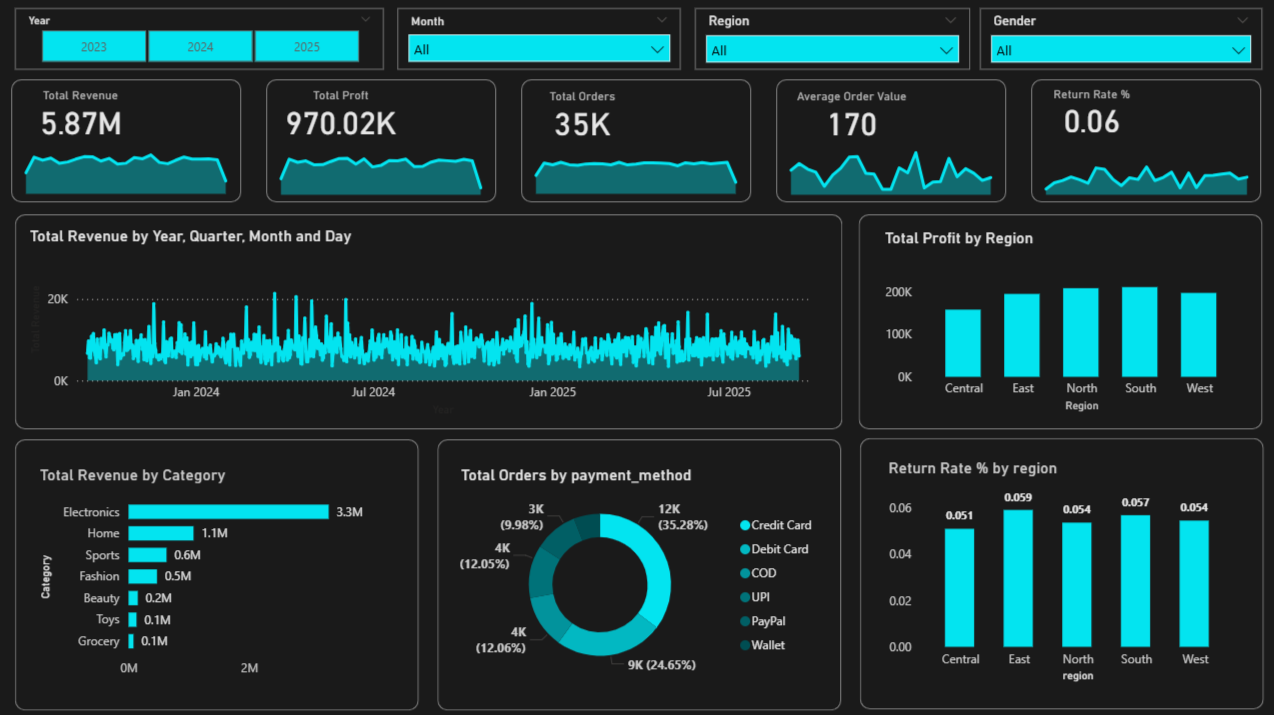

What the dashboard file says about the page in this screenshot:
{"tool":"powerbi","page":{"name":"Page 1","canvas":[1280,720],"ordinal":0},"visuals":[{"type":"slicer","fields":{"Values":["orders.Year"]},"box":[19,8.3,369,61.9],"z":0},{"type":"shape","box":[15.5,80,230,123],"z":0,"group":"g6"},{"type":"slicer","fields":{"Values":["orders.region"]},"box":[698.8,8.3,275,61.9],"z":1000},{"type":"shape","box":[270.4,80,230,123],"z":1000,"group":"g8"},{"type":"slicer","fields":{"Values":["orders.Month"]},"box":[401.2,8.3,283.3,61.9],"z":2000},{"type":"shape","box":[525.1,79.8,230,123],"z":2000,"group":"g9"},{"type":"shape","box":[779.9,80,230,123],"z":3000,"group":"g12"},{"type":"group","id":"g1","title":"Group 1","box":[19.3,439.5,403.8,271.2],"z":3000},{"type":"shape","box":[1034.6,80,230,123],"z":4000,"group":"g14"},{"type":"group","id":"g2","title":"Group 2","box":[441.8,439.5,403.8,271.2],"z":4000},{"type":"group","id":"g3","title":"Group 3","box":[864.3,438.3,403.8,271.2],"z":5000},{"type":"shape","box":[19.3,439.5,403.8,271.2],"z":5000,"group":"g1"},{"type":"group","id":"g4","title":"Group 4","box":[861.9,214.5,403.8,215],"z":6000},{"type":"shape","box":[441.8,439.5,403.8,271.2],"z":6000,"group":"g2"},{"type":"group","id":"g5","title":"Group 5","box":[18.2,214.5,827.5,215],"z":7000},{"type":"shape","box":[864.3,438.3,403.8,271.2],"z":7000,"group":"g3"},{"type":"slicer","fields":{"Values":["orders.customer_gender"]},"box":[983.3,8.3,282.1,61.9],"z":8000},{"type":"group","id":"g6","title":"Group 6","box":[15.5,80,230,123],"z":8000,"group":"g7"},{"type":"shape","box":[861.9,214.5,403.8,215],"z":8000,"group":"g4"},{"type":"group","id":"g7","title":"Group 11","box":[15.5,80,230,123],"z":9000},{"type":"group","id":"g8","title":"Group 7","box":[270.4,80,229.8,123],"z":9000,"group":"g10"},{"type":"shape","box":[18.2,214.5,827.5,215],"z":9000,"group":"g5"},{"type":"group","id":"g9","title":"Group 8","box":[525.1,79.8,229.8,123],"z":10000,"group":"g11"},{"type":"group","id":"g10","title":"Group 12","box":[270.2,80,230,123],"z":10000},{"type":"card","title":"Total Proft","fields":{"Values":["orders.Total Profit"]},"box":[276.5,88.1,137,52.9],"z":10000,"group":"g8"},{"type":"group","id":"g11","title":"Group 13","box":[525,79.8,229.8,122.6],"z":11000},{"type":"group","id":"g12","title":"Group 9","box":[779.9,80,229.8,123],"z":11000,"group":"g13"},{"type":"card","title":"Total Revenue","fields":{"Values":["orders.Total Revenue"]},"box":[27.9,88.3,113.8,52.1],"z":11000,"group":"g6"},{"type":"group","id":"g13","title":"Group 14","box":[779.8,80,229.9,123],"z":12000},{"type":"group","id":"g14","title":"Group 10","box":[1034.6,80,231,123],"z":12000,"group":"g15"},{"type":"card","title":"Total Orders","fields":{"Values":["orders.Total Orders"]},"box":[530.3,89.4,112.6,51.7],"z":12000,"group":"g9"},{"type":"group","id":"g15","title":"Group 15","box":[1034.5,80,231,123],"z":13000},{"type":"card","title":"Return Rate %","fields":{"Values":["orders.Return Rate %"]},"box":[1040.3,88,108.9,50.3],"z":13000,"group":"g14"},{"type":"areaChart","fields":{"Category":["orders.order_date.Variation.Date Hierarchy.Year","orders.order_date.Variation.Date Hierarchy.Quarter","orders.order_date.Variation.Date Hierarchy.Month","orders.order_date.Variation.Date Hierarchy.Day"],"Y":["orders.Total Revenue"]},"box":[15.5,138.1,229.8,61.9],"z":13001,"group":"g7"},{"type":"areaChart","fields":{"Category":["orders.order_date.Variation.Date Hierarchy.Year","orders.order_date.Variation.Date Hierarchy.Quarter","orders.order_date.Variation.Date Hierarchy.Month","orders.order_date.Variation.Date Hierarchy.Day"],"Y":["orders.Return Rate %"]},"box":[1034.5,138.1,231,61.9],"z":13002,"group":"g15"},{"type":"areaChart","fields":{"Category":["orders.order_date.Variation.Date Hierarchy.Year","orders.order_date.Variation.Date Hierarchy.Quarter","orders.order_date.Variation.Date Hierarchy.Month","orders.order_date.Variation.Date Hierarchy.Day"],"Y":["orders.AOV"]},"box":[779.8,138.1,229.8,61.9],"z":13003,"group":"g13"},{"type":"areaChart","fields":{"Category":["orders.order_date.Variation.Date Hierarchy.Year","orders.order_date.Variation.Date Hierarchy.Quarter","orders.order_date.Variation.Date Hierarchy.Month","orders.order_date.Variation.Date Hierarchy.Day"],"Y":["orders.Total Orders"]},"box":[525,137.9,229.8,61.9],"z":13004,"group":"g11"},{"type":"areaChart","fields":{"Category":["orders.order_date.Variation.Date Hierarchy.Year","orders.order_date.Variation.Date Hierarchy.Quarter","orders.order_date.Variation.Date Hierarchy.Month","orders.order_date.Variation.Date Hierarchy.Day"],"Y":["orders.Total Profit"]},"box":[270.2,138.1,229.8,61.9],"z":13005,"group":"g10"},{"type":"clusteredBarChart","title":"    Total Revenue by Category","fields":{"Category":["orders.category"],"Y":["orders.Total Revenue"]},"box":[39.3,465.7,348.8,221.2],"z":14000,"group":"g1"},{"type":"clusteredColumnChart","fields":{"Category":["orders.region"],"Y":["orders.Total Profit"]},"box":[883.1,229.5,367.5,187.5],"z":15000,"group":"g4"},{"type":"lineChart","fields":{"Y":["orders.Total Revenue"],"Category":["orders.order_date.Variation.Date Hierarchy.Year","orders.order_date.Variation.Date Hierarchy.Quarter","orders.order_date.Variation.Date Hierarchy.Month","orders.order_date.Variation.Date Hierarchy.Day"]},"box":[28.2,227,801.2,193.8],"z":16000,"group":"g5"},{"type":"donutChart","fields":{"Category":["orders.payment_method"],"Y":["orders.Total Orders"]},"box":[460.6,465.7,370,221.2],"z":17000,"group":"g2"},{"type":"card","title":"Average Order Value","fields":{"Values":["orders.AOV"]},"box":[785,90.6,141.3,51.9],"z":18000,"group":"g12"},{"type":"clusteredColumnChart","fields":{"Category":["orders.region"],"Y":["orders.Return Rate %"]},"box":[888.1,459.5,356.2,227.5],"z":19000,"group":"g3"}]}

Visuals, with their boxes in screenshot pixels (x1, y1, x2, y2), scaled from the page's 1280x720 canvas onto the 1274x715 screenshot:
slicer - orders.Year: box=[19, 8, 386, 70]
shape: box=[15, 79, 244, 202]
slicer - orders.region: box=[696, 8, 969, 70]
shape: box=[269, 79, 498, 202]
slicer - orders.Month: box=[399, 8, 681, 70]
shape: box=[523, 79, 752, 201]
shape: box=[776, 79, 1005, 202]
"Group 1" group: box=[19, 436, 421, 706]
shape: box=[1030, 79, 1259, 202]
"Group 2" group: box=[440, 436, 842, 706]
"Group 3" group: box=[860, 435, 1262, 705]
shape: box=[19, 436, 421, 706]
"Group 4" group: box=[858, 213, 1260, 427]
shape: box=[440, 436, 842, 706]
"Group 5" group: box=[18, 213, 842, 427]
shape: box=[860, 435, 1262, 705]
slicer - orders.customer_gender: box=[979, 8, 1259, 70]
"Group 6" group: box=[15, 79, 244, 202]
shape: box=[858, 213, 1260, 427]
"Group 11" group: box=[15, 79, 244, 202]
"Group 7" group: box=[269, 79, 498, 202]
shape: box=[18, 213, 842, 427]
"Group 8" group: box=[523, 79, 751, 201]
"Group 12" group: box=[269, 79, 498, 202]
"Total Proft" card: box=[275, 87, 412, 140]
"Group 13" group: box=[523, 79, 751, 201]
"Group 9" group: box=[776, 79, 1005, 202]
"Total Revenue" card: box=[28, 88, 141, 139]
"Group 14" group: box=[776, 79, 1005, 202]
"Group 10" group: box=[1030, 79, 1260, 202]
"Total Orders" card: box=[528, 89, 640, 140]
"Group 15" group: box=[1030, 79, 1260, 202]
"Return Rate %" card: box=[1035, 87, 1144, 137]
areaChart - orders.order_date.Variation.Date Hierarchy.Year x orders.order_date.Variation.Date Hierarchy.Quarter: box=[15, 137, 244, 199]
areaChart - orders.order_date.Variation.Date Hierarchy.Year x orders.order_date.Variation.Date Hierarchy.Quarter: box=[1030, 137, 1260, 199]
areaChart - orders.order_date.Variation.Date Hierarchy.Year x orders.order_date.Variation.Date Hierarchy.Quarter: box=[776, 137, 1005, 199]
areaChart - orders.order_date.Variation.Date Hierarchy.Year x orders.order_date.Variation.Date Hierarchy.Quarter: box=[523, 137, 751, 198]
areaChart - orders.order_date.Variation.Date Hierarchy.Year x orders.order_date.Variation.Date Hierarchy.Quarter: box=[269, 137, 498, 199]
"    Total Revenue by Category" clusteredBarChart: box=[39, 462, 386, 682]
clusteredColumnChart - orders.region x orders.Total Profit: box=[879, 228, 1245, 414]
lineChart - orders.Total Revenue x orders.order_date.Variation.Date Hierarchy.Year: box=[28, 225, 826, 418]
donutChart - orders.payment_method x orders.Total Orders: box=[458, 462, 827, 682]
"Average Order Value" card: box=[781, 90, 922, 142]
clusteredColumnChart - orders.region x orders.Return Rate %: box=[884, 456, 1238, 682]
